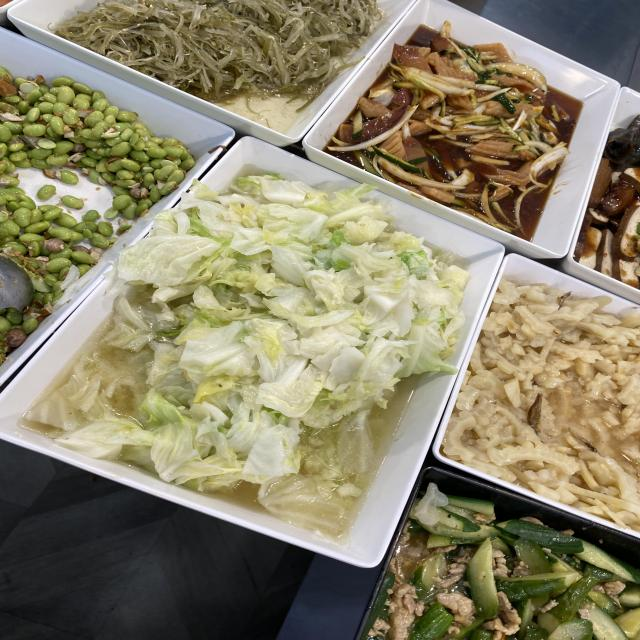bitter gourd: (505, 306, 632, 473)
cabbage: (182, 214, 387, 466)
